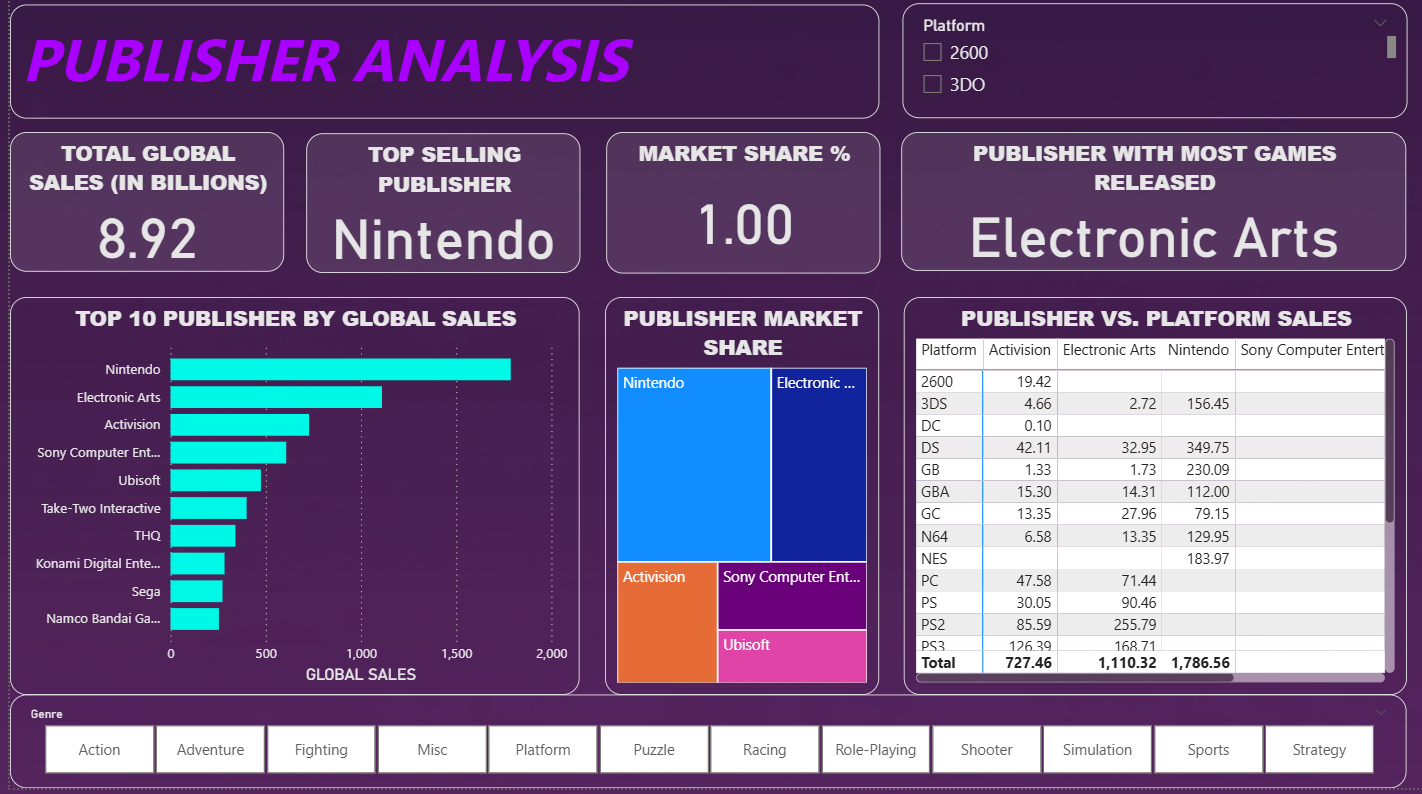

Layout of this report page (visuals, bound fields, positions):
{"tool":"powerbi","page":{"name":"Page 4","canvas":[1280,720],"ordinal":3},"visuals":[{"type":"card","title":"TOTAL GLOBAL SALES (IN BILLIONS)","fields":{"Values":["vgsales.TOTAL_GLOBAL_SALES"]},"box":[0,126.7,248.4,126.7],"z":0},{"type":"card","title":"TOP SELLING PUBLISHER","fields":{"Values":["vgsales.TOP PUBLISHER"]},"box":[267.6,128,248.4,126.7],"z":1000},{"type":"card","title":"MARKET SHARE %","fields":{"Values":["vgsales.MARKET SHARE %"]},"box":[539,126.7,248.4,128],"z":2000},{"type":"treemap","title":"PUBLISHER MARKET SHARE","fields":{"Values":["Sum(vgsales.Global_Sales (in millions))"],"Group":["vgsales.Publisher"]},"box":[538.6,275.5,247.8,360.1],"z":3000},{"type":"barChart","title":"TOP 10 PUBLISHER BY GLOBAL SALES","fields":{"Category":["vgsales.Publisher"],"Y":["Sum(vgsales.Global_Sales (in millions))"]},"box":[0,275.5,515.5,360.1],"z":4000},{"type":"card","title":"PUBLISHER WITH MOST GAMES RELEASED","fields":{"Values":["vgsales.most games publisher"]},"box":[806.6,126.7,457.1,125.5],"z":5000},{"type":"pivotTable","title":"PUBLISHER VS. PLATFORM SALES","fields":{"Values":["Sum(vgsales.Global_Sales (in millions))"],"Columns":["vgsales.Publisher"],"Rows":["vgsales.Platform"]},"box":[807.9,275.5,455.5,360.1],"z":6000},{"type":"slicer","fields":{"Values":["vgsales.Genre"]},"box":[0,635.5,1263.4,84.6],"z":7000},{"type":"slicer","fields":{"Values":["vgsales.Platform"]},"box":[807.8,10.2,457.1,103.7],"z":8000},{"type":"textbox","box":[0,10.8,786.3,103.1],"z":9000}]}

Visuals, with their boxes in screenshot pixels (x1, y1, x2, y2), scaled from the page's 1280x720 canvas onto the 1422x794 screenshot:
"TOTAL GLOBAL SALES (IN BILLIONS)" card: {"left": 0, "top": 140, "right": 276, "bottom": 279}
"TOP SELLING PUBLISHER" card: {"left": 297, "top": 141, "right": 573, "bottom": 281}
"MARKET SHARE %" card: {"left": 599, "top": 140, "right": 875, "bottom": 281}
"PUBLISHER MARKET SHARE" treemap: {"left": 598, "top": 304, "right": 874, "bottom": 701}
"TOP 10 PUBLISHER BY GLOBAL SALES" barChart: {"left": 0, "top": 304, "right": 573, "bottom": 701}
"PUBLISHER WITH MOST GAMES RELEASED" card: {"left": 896, "top": 140, "right": 1404, "bottom": 278}
"PUBLISHER VS. PLATFORM SALES" pivotTable: {"left": 898, "top": 304, "right": 1404, "bottom": 701}
slicer - vgsales.Genre: {"left": 0, "top": 701, "right": 1404, "bottom": 793}
slicer - vgsales.Platform: {"left": 897, "top": 11, "right": 1405, "bottom": 126}
textbox: {"left": 0, "top": 12, "right": 874, "bottom": 126}
